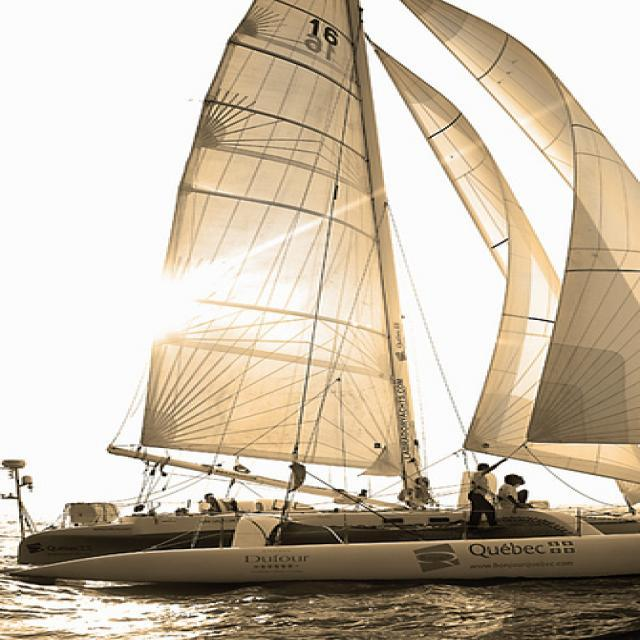Ship: (3, 1, 640, 592)
